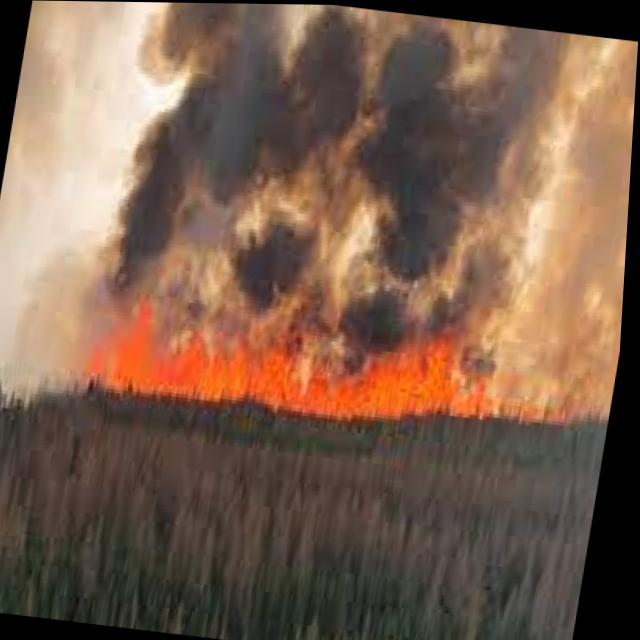Fire: (78, 290, 579, 451)
